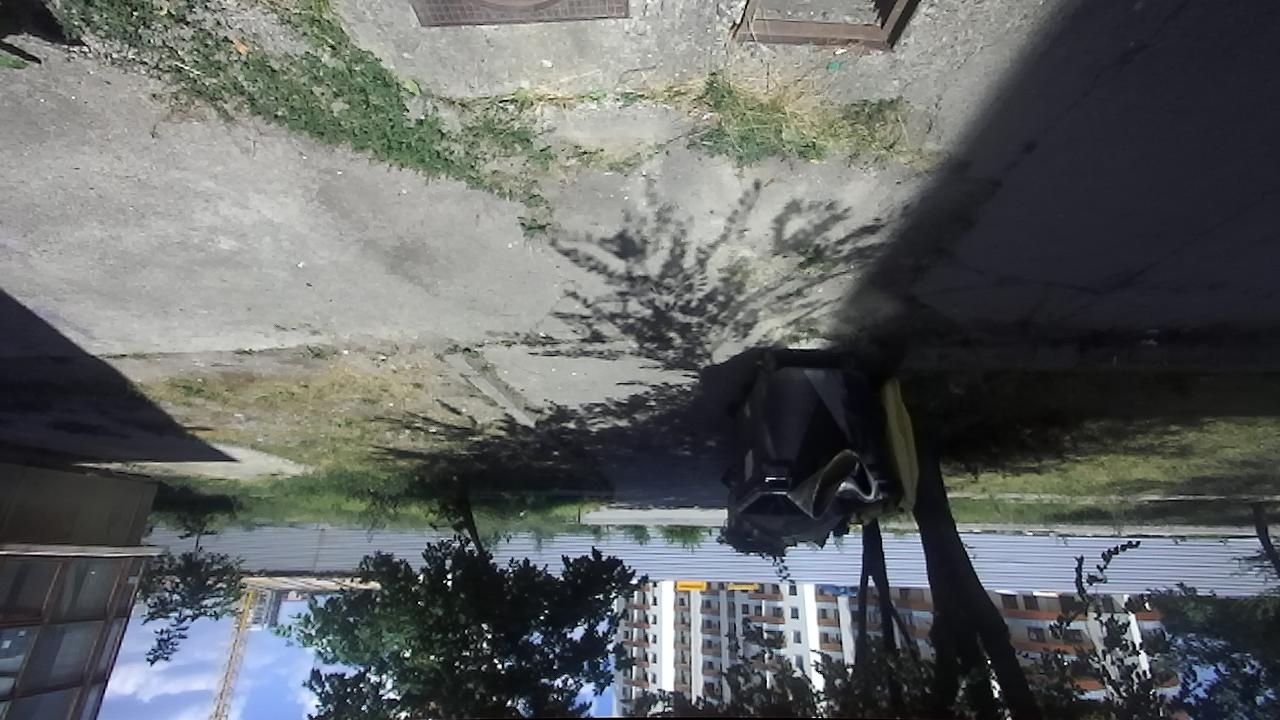drain: (723, 0, 932, 54)
